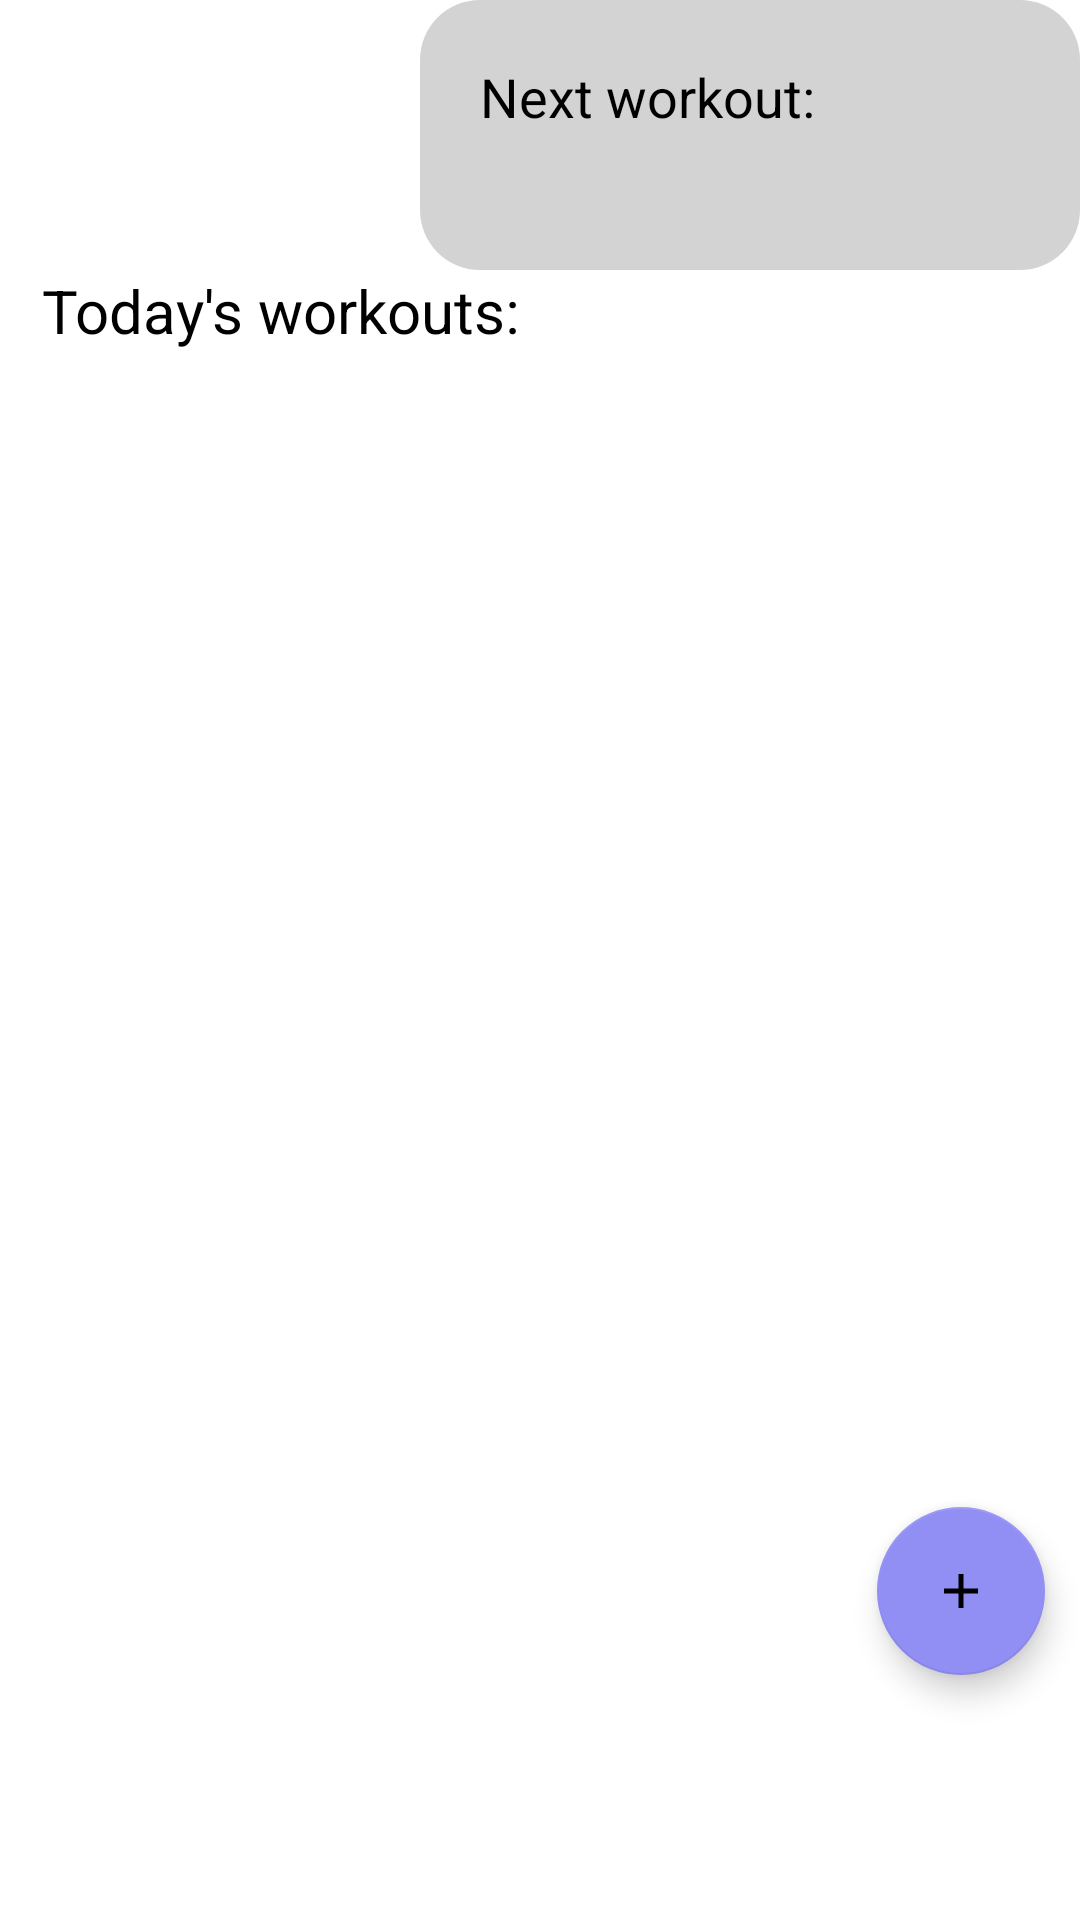

Named icons in this screenshot (1080 x 1920) and their centers, (x,y):
add: (961,1591)
